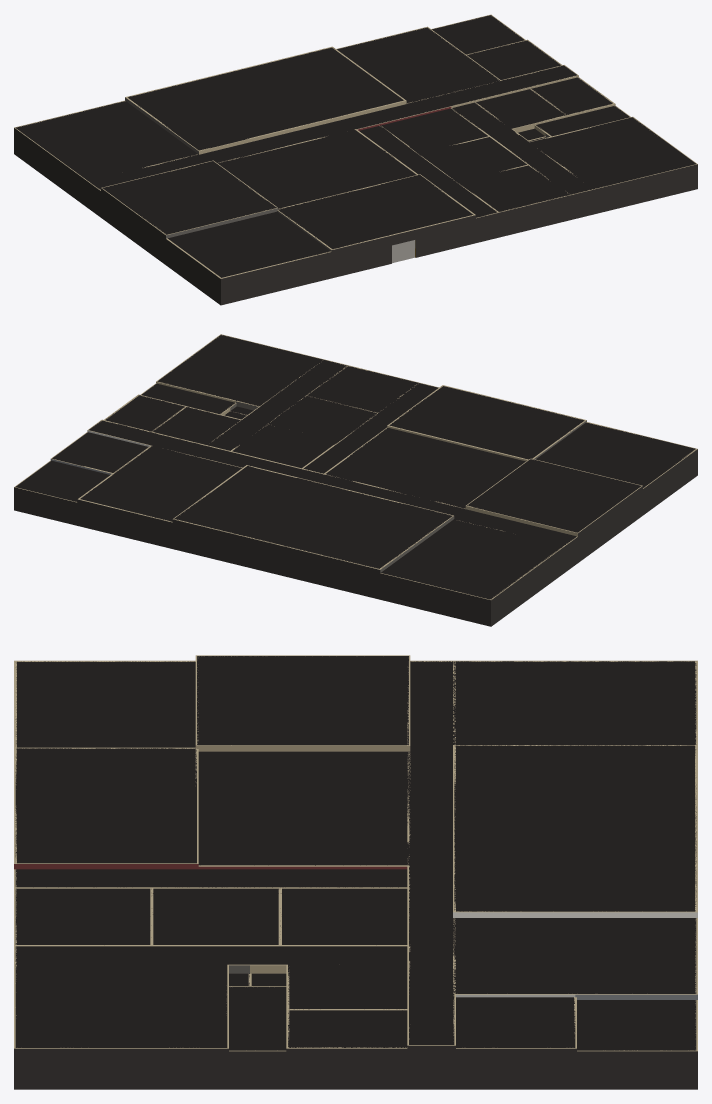
The model's file is v2_predio.glb.
3 views of the same model, one above another, from view 1: azimuth 30°, elevation 25°; view 2: azimuth 150°, elevation 25°; view 3: azimuth 270°, elevation 25° (orthographic). The views are drawn at different scales.
Parts seen in each view (by area): view 1: Teto_Salao, Teto_Fliperama, Teto_Oficina, Teto_Recepcao, Teto_Deposito, Teto_Cozinha, Teto_Copa, Teto_Corredor_Principal, Teto_Sala_Eletrica, Parede_Externa__Sala_Eletrica, Parede_Externa__Recepcao, Teto_Festa_Princesas (+17 smaller); view 2: Teto_Salao, Teto_Fliperama, Teto_Oficina, Teto_Recepcao, Teto_Deposito, Teto_Copa, Teto_Cozinha, Parede_Externa__Salao, Teto_Corredor_Principal, Teto_Sala_Eletrica, Parede_Externa__Oficina, Teto_Festa_Princesas (+14 smaller); view 3: Teto_Salao, Teto_Fliperama, Teto_Recepcao, Teto_Oficina, Teto_Deposito, Teto_Cozinha, Teto_Copa, Teto_Corredor_Principal, Teto_Sala_Eletrica, Parede_Copa__Externa, Teto_Festa_Princesas, Teto_Corredor_Festas (+19 smaller).
Part boxes in pixels (x1=…): Teto_Salao: x1=128, y1=47, x2=403, y2=150; Teto_Fliperama: x1=217, y1=129, x2=416, y2=208; Teto_Oficina: x1=15, y1=101, x2=198, y2=181; Teto_Recepcao: x1=278, y1=174, x2=473, y2=249; Teto_Deposito: x1=102, y1=161, x2=276, y2=234; Teto_Cozinha: x1=337, y1=27, x2=499, y2=103; Teto_Copa: x1=530, y1=117, x2=695, y2=188; Teto_Corredor_Principal: x1=89, y1=65, x2=577, y2=189; Teto_Sala_Eletrica: x1=168, y1=211, x2=330, y2=277; Parede_Externa__Sala_Eletrica: x1=165, y1=238, x2=332, y2=305; Parede_Externa__Recepcao: x1=332, y1=215, x2=475, y2=277; Teto_Festa_Princesas: x1=458, y1=165, x2=569, y2=211; Teto_Salao: x1=174, y1=466, x2=452, y2=568; Teto_Fliperama: x1=326, y1=428, x2=525, y2=508; Teto_Oficina: x1=381, y1=519, x2=563, y2=599; Teto_Recepcao: x1=389, y1=386, x2=584, y2=459; Teto_Deposito: x1=467, y1=459, x2=641, y2=532; Teto_Copa: x1=157, y1=334, x2=323, y2=406; Teto_Cozinha: x1=80, y1=446, x2=241, y2=521; Parede_Externa__Salao: x1=173, y1=519, x2=379, y2=599; Teto_Corredor_Principal: x1=89, y1=420, x2=576, y2=545; Teto_Sala_Eletrica: x1=536, y1=422, x2=695, y2=487; Parede_Externa__Oficina: x1=379, y1=546, x2=564, y2=626; Teto_Festa_Princesas: x1=307, y1=365, x2=418, y2=412; Teto_Salao: x1=454, y1=745, x2=696, y2=911; Teto_Fliperama: x1=198, y1=751, x2=408, y2=865; Teto_Recepcao: x1=15, y1=748, x2=196, y2=863; Teto_Oficina: x1=454, y1=661, x2=696, y2=744; Teto_Deposito: x1=197, y1=656, x2=408, y2=745; Teto_Cozinha: x1=454, y1=918, x2=696, y2=993; Teto_Copa: x1=15, y1=964, x2=227, y2=1047; Teto_Corredor_Principal: x1=409, y1=661, x2=454, y2=1044; Teto_Sala_Eletrica: x1=15, y1=661, x2=195, y2=747; Parede_Copa__Externa: x1=14, y1=964, x2=227, y2=1089; Teto_Festa_Princesas: x1=15, y1=888, x2=151, y2=944; Teto_Corredor_Festas: x1=15, y1=869, x2=407, y2=887.
Size of what is drawn, in the model's own units: 60.2 by 3.6 by 45.2.
